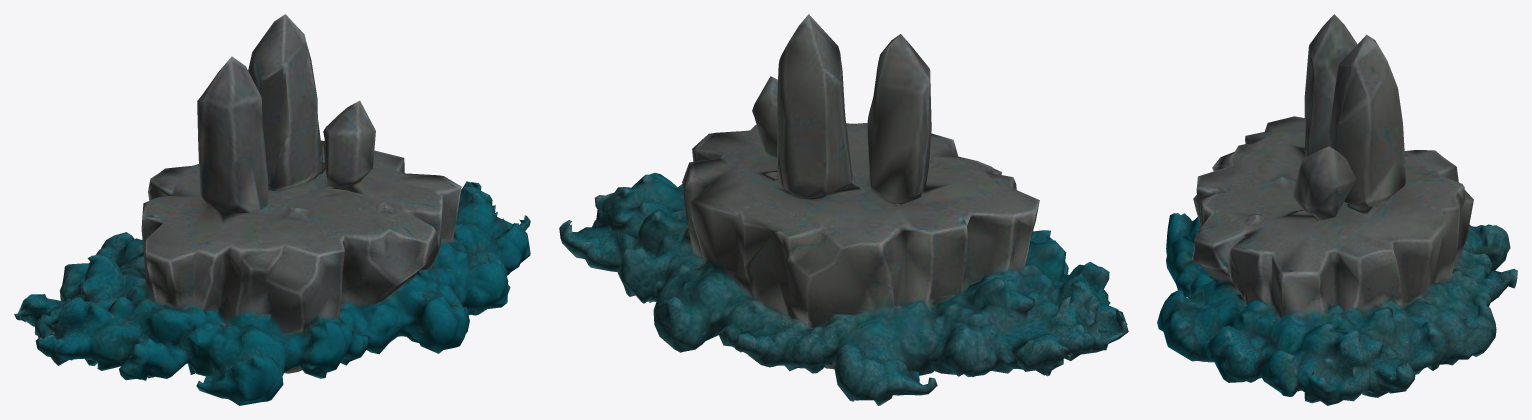
The model's file is poCrystalIsland.22a698c8.glb.
3 views of the same model, side by side, from view 1: azimuth 30°, elevation 25°; view 2: azimuth 150°, elevation 25°; view 3: azimuth 270°, elevation 25° (orthographic). The views are drawn at different scales.
Bounding box in the file's own units: 1.9 × 1.25 × 1.2.
Materials: 1 (1 with a texture image).
